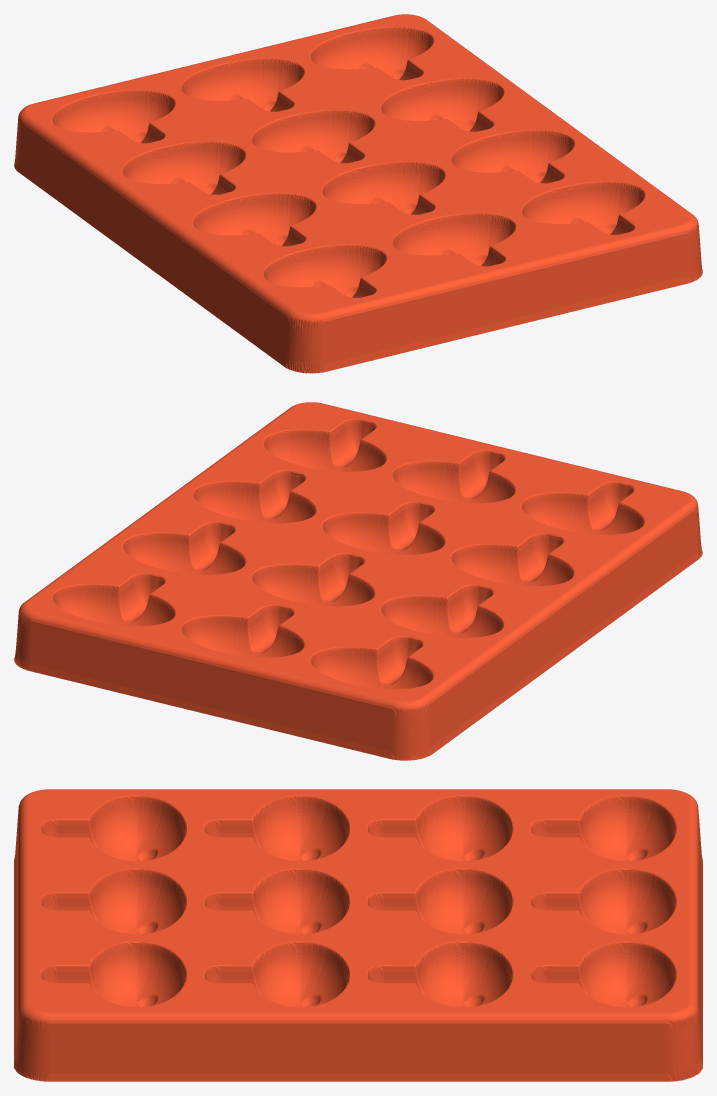
The model's file is mold.glb.
3 views of the same model, one above another, from view 1: azimuth 30°, elevation 25°; view 2: azimuth 150°, elevation 25°; view 3: azimuth 270°, elevation 25° (orthographic). The views are drawn at different scales.
Parts seen in each view (by area): view 1: geometry_0; view 2: geometry_0; view 3: geometry_0.
Boxes of the visible parts, left/top/right/bottom form: geometry_0: left=14, top=14, right=702, bottom=373; geometry_0: left=14, top=402, right=702, bottom=760; geometry_0: left=14, top=789, right=702, bottom=1081.
Bounding box in the file's own units: 0.1389 × 0.0175 × 0.1726.
